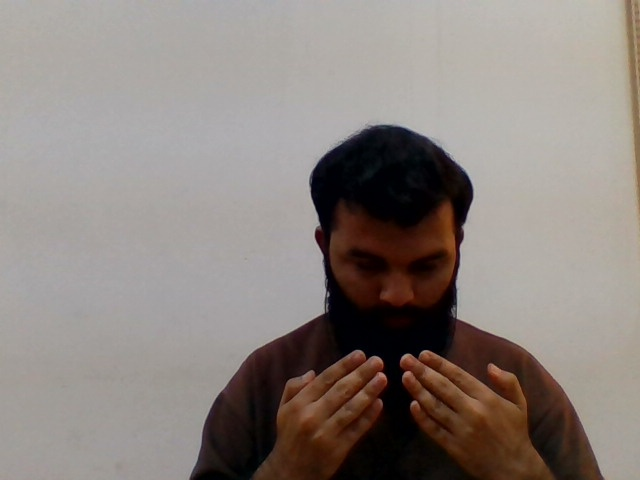Thank You: (233, 213, 603, 478)
